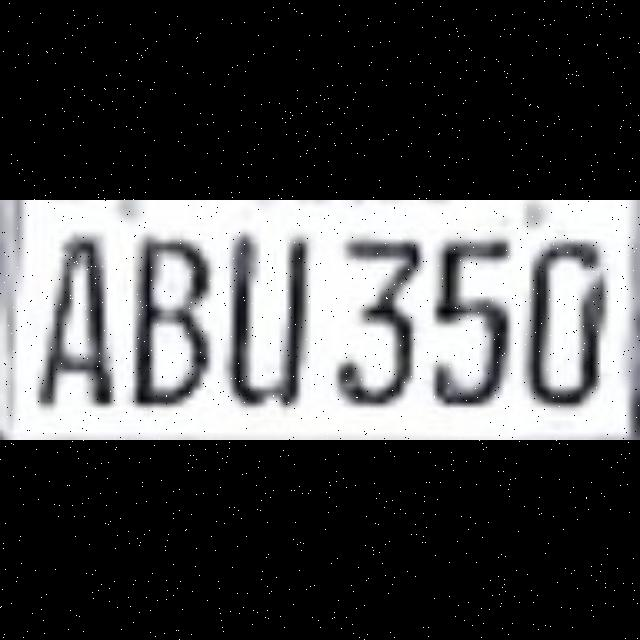0: (524, 216, 620, 414)
3: (329, 216, 426, 414)
5: (426, 216, 524, 414)
A: (40, 216, 136, 414)
B: (136, 216, 234, 414)
U: (234, 216, 330, 414)
